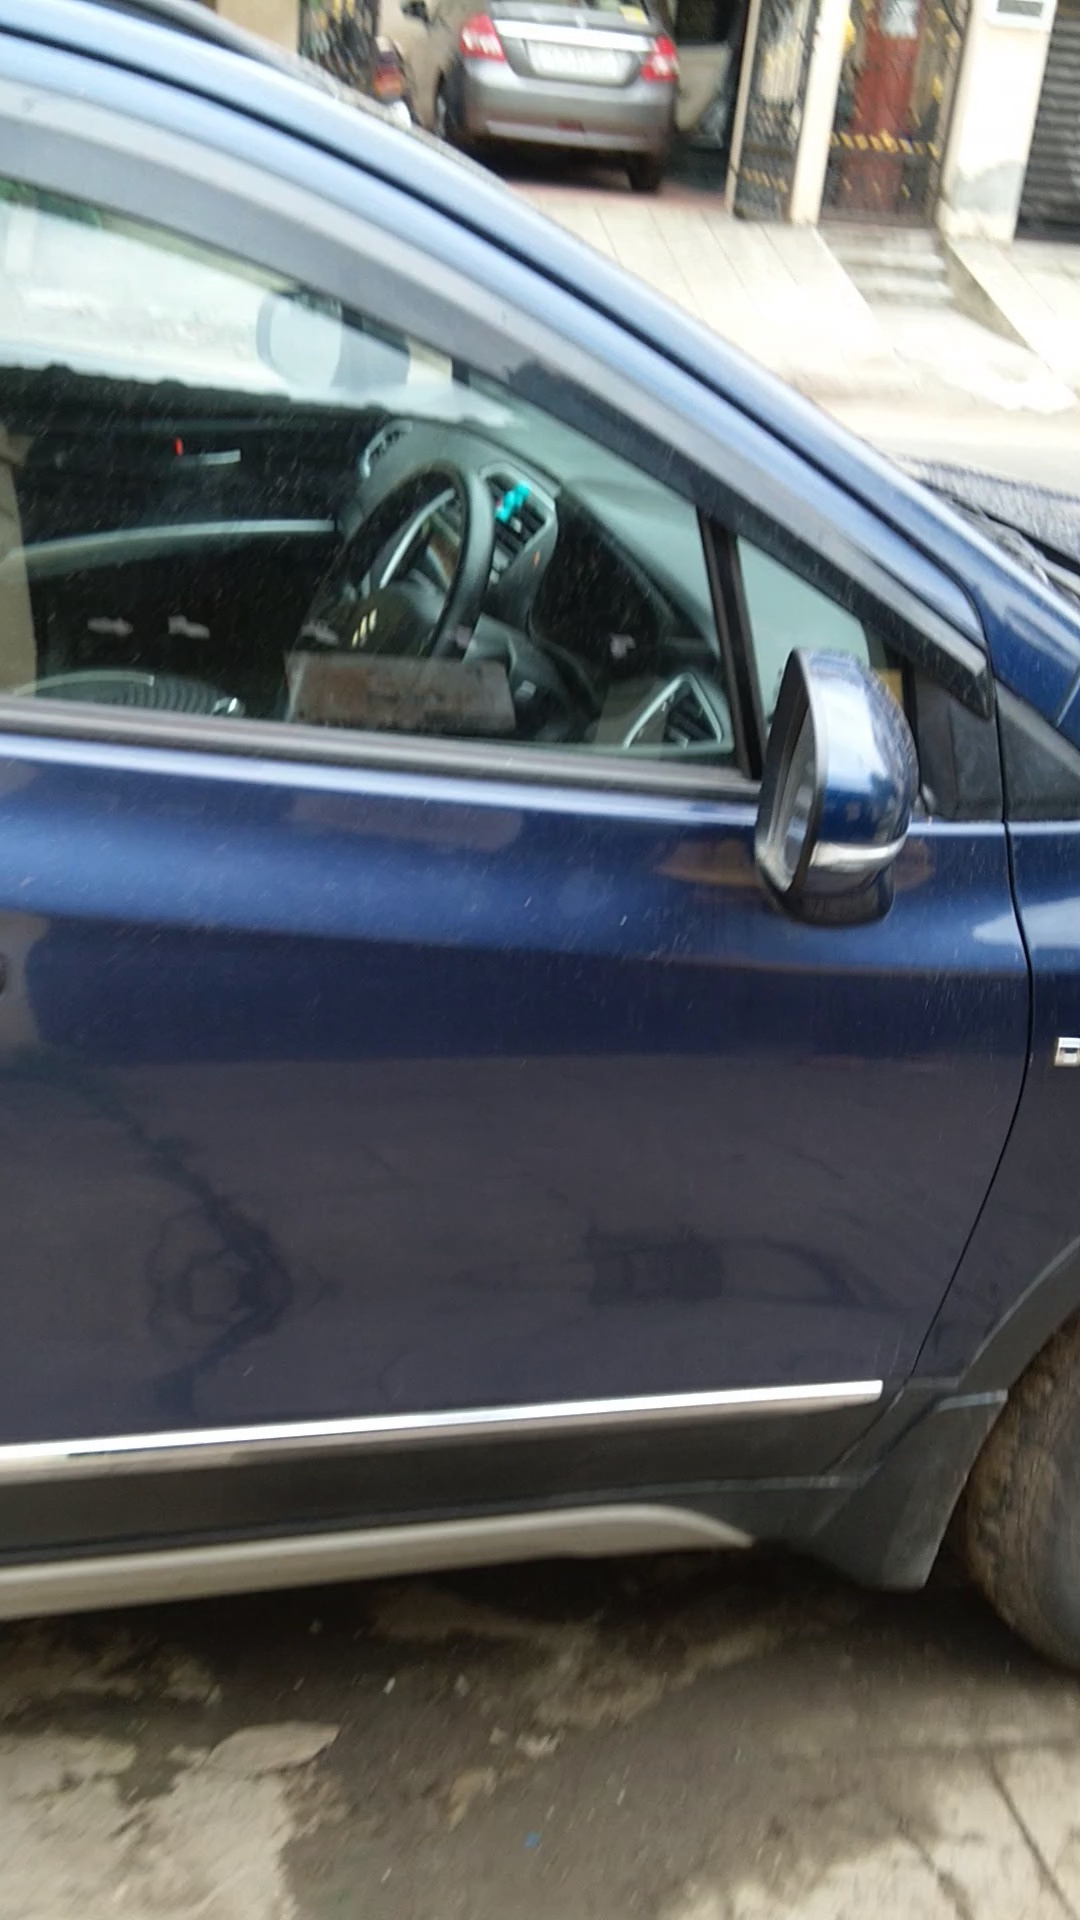ovr_mirror: (711, 612, 956, 972)
